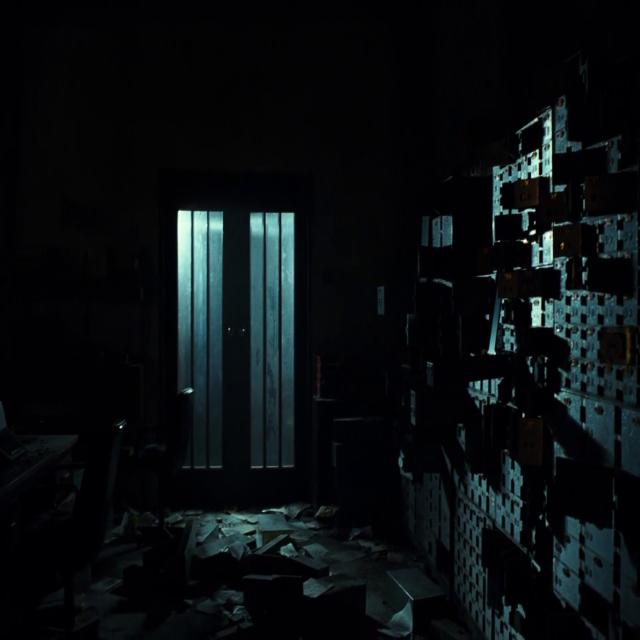Table: (0, 373, 97, 614)
chair: (64, 408, 127, 606), (132, 373, 213, 516)
